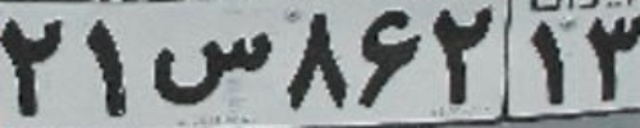1: (83, 18, 128, 116), (529, 20, 564, 105)
2: (0, 15, 63, 115), (431, 5, 492, 104)
3: (581, 14, 635, 102)
6: (358, 7, 420, 108)
8: (289, 13, 345, 107)
sin: (151, 31, 273, 106)
